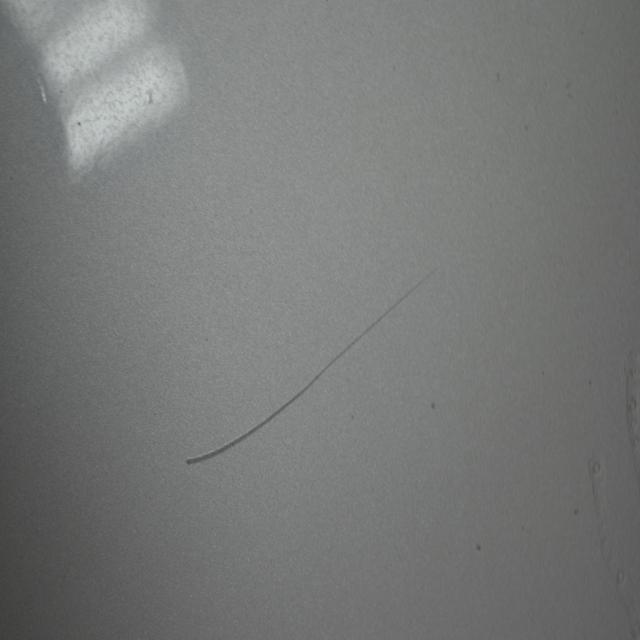dirt: (427, 392, 440, 417), (562, 79, 576, 100), (572, 503, 582, 519), (474, 540, 482, 556), (496, 68, 502, 84), (525, 118, 532, 131), (76, 119, 82, 129)
runs: (591, 446, 638, 640), (623, 352, 640, 523)
scratch: (184, 260, 447, 470)
